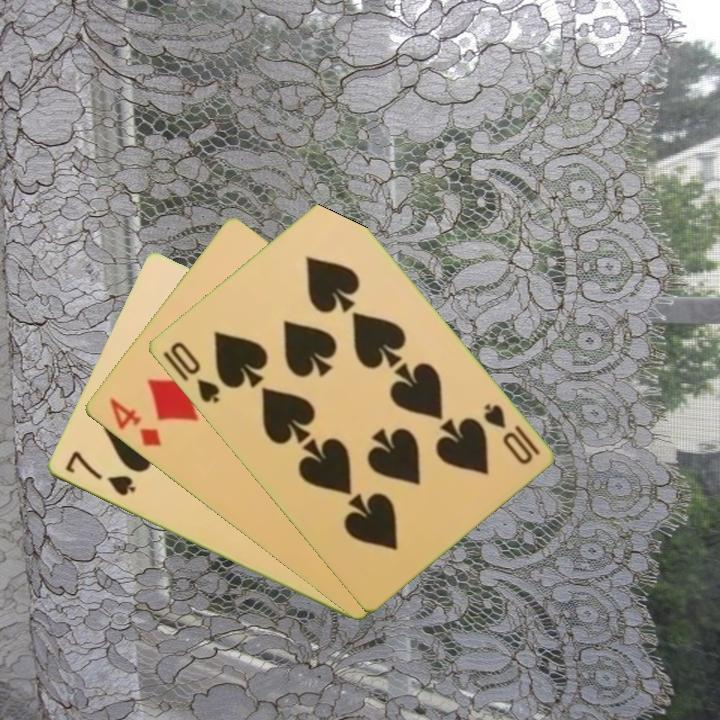10s: (158, 338, 222, 407), (479, 399, 543, 468)
4d: (104, 394, 164, 450)
7s: (61, 447, 138, 500)
